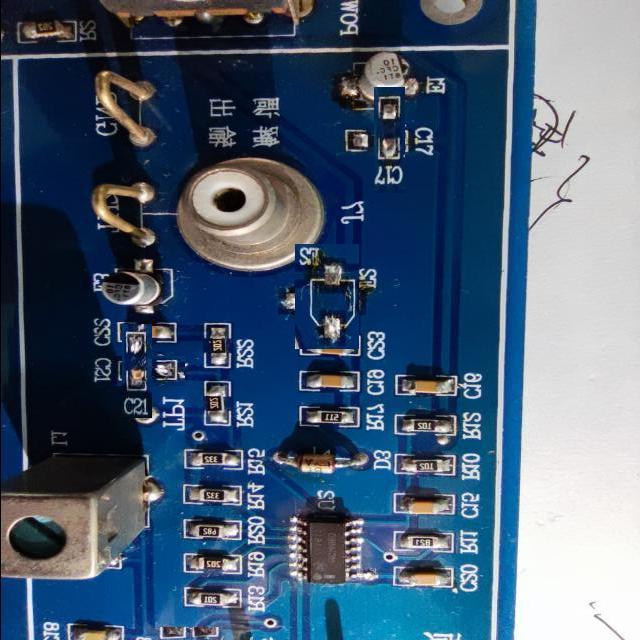miss_welding: (285, 254, 369, 338), (355, 106, 424, 174), (106, 340, 169, 402), (157, 627, 220, 640)
